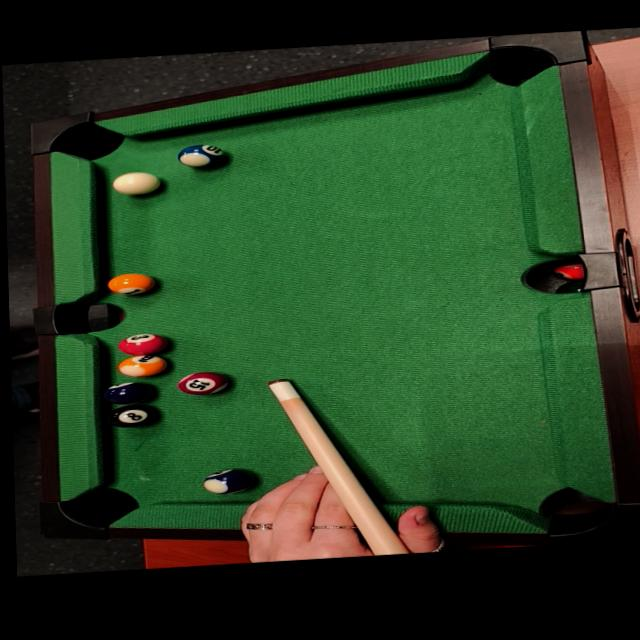cue ball: (113, 168, 162, 198)
other: (172, 366, 235, 398), (197, 465, 261, 495), (105, 401, 167, 428), (173, 139, 228, 168), (116, 352, 172, 380), (99, 378, 156, 405), (116, 330, 170, 355), (105, 271, 155, 297)
